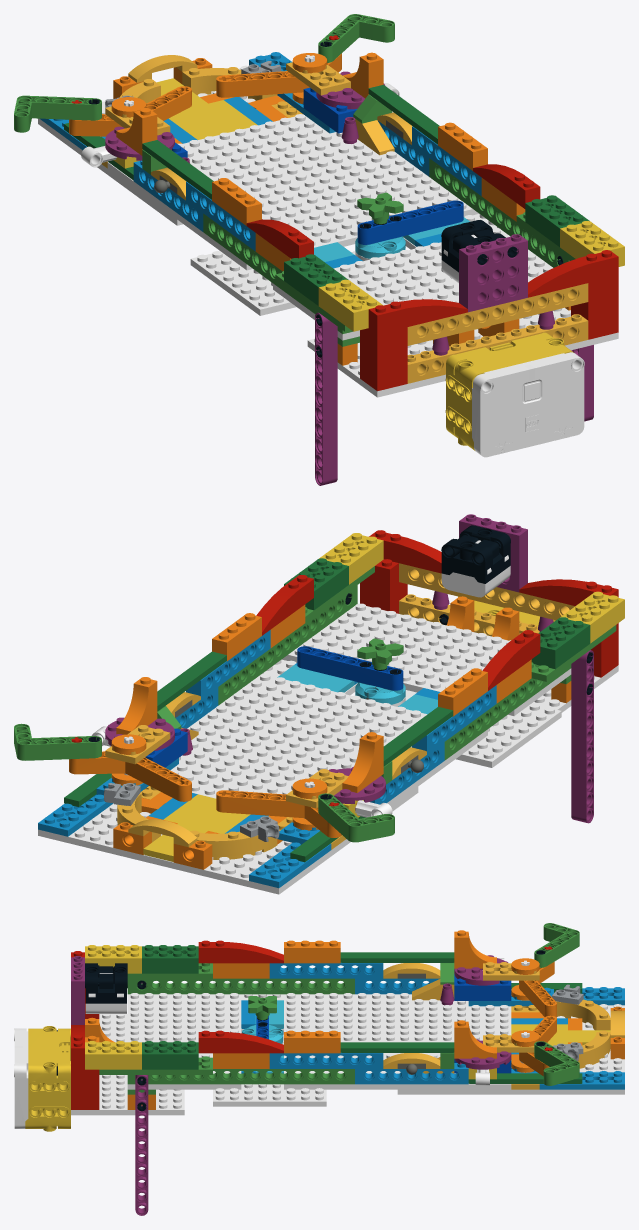
The model's file is pinball_09_21_56.glb.
3 renders of one model, top to bottom at view 1: azimuth 30°, elevation 25°; view 2: azimuth 150°, elevation 25°; view 3: azimuth 270°, elevation 25°, orthographic. The views are drawn at different scales.
Parts seen in each view (by area): view 1: Node1; view 2: Node1; view 3: Node1.
Boxes of the visible parts, left/top/right/bottom form: Node1: left=14, top=14, right=624, bottom=485; Node1: left=14, top=514, right=624, bottom=894; Node1: left=14, top=923, right=624, bottom=1215.
Size of the model in its own units: 502 by 303 by 860.
